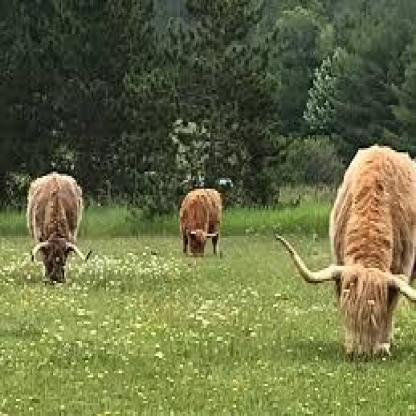cow: (274, 142, 416, 359), (25, 173, 92, 286), (179, 186, 223, 258)
